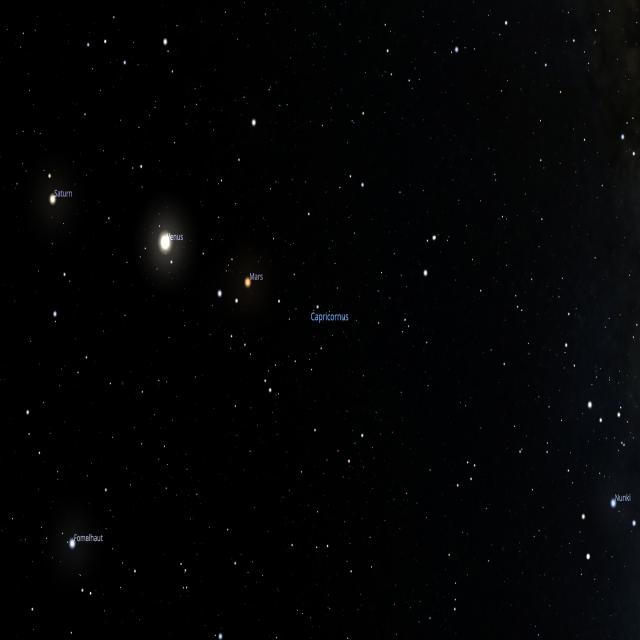Capricornus: (215, 231, 438, 468)
